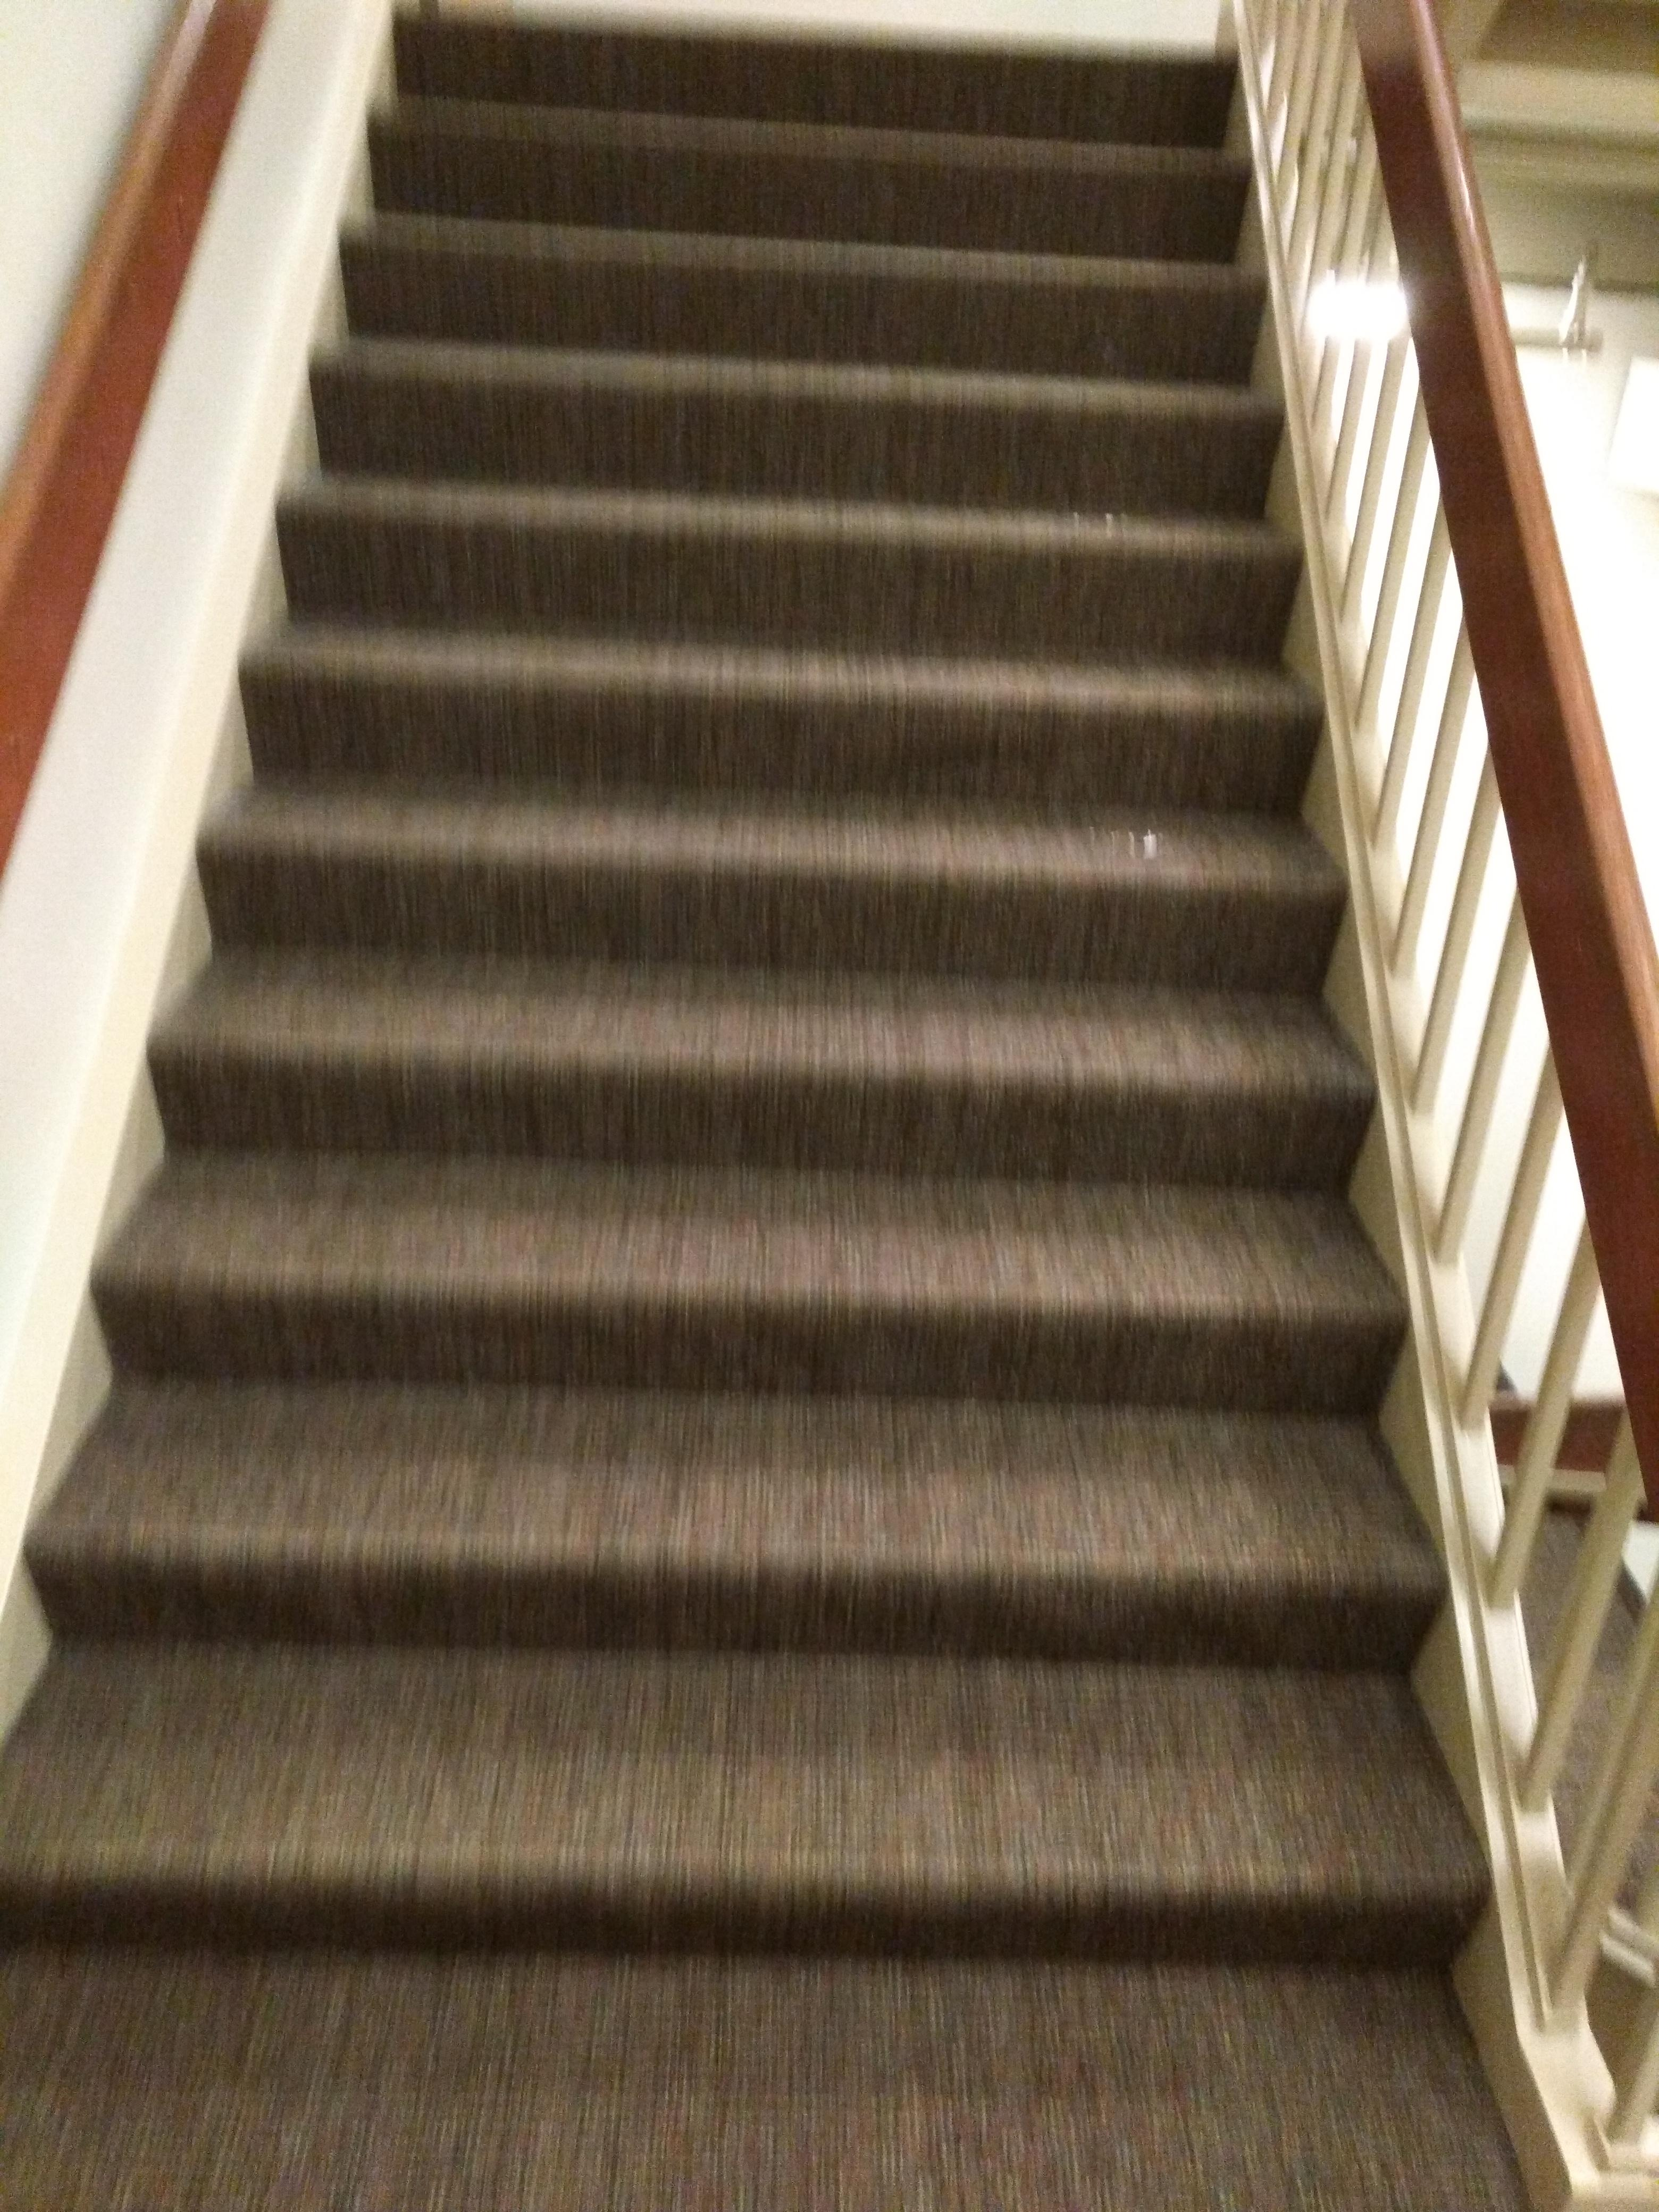stairs_up: (85, 9, 1560, 2113)
